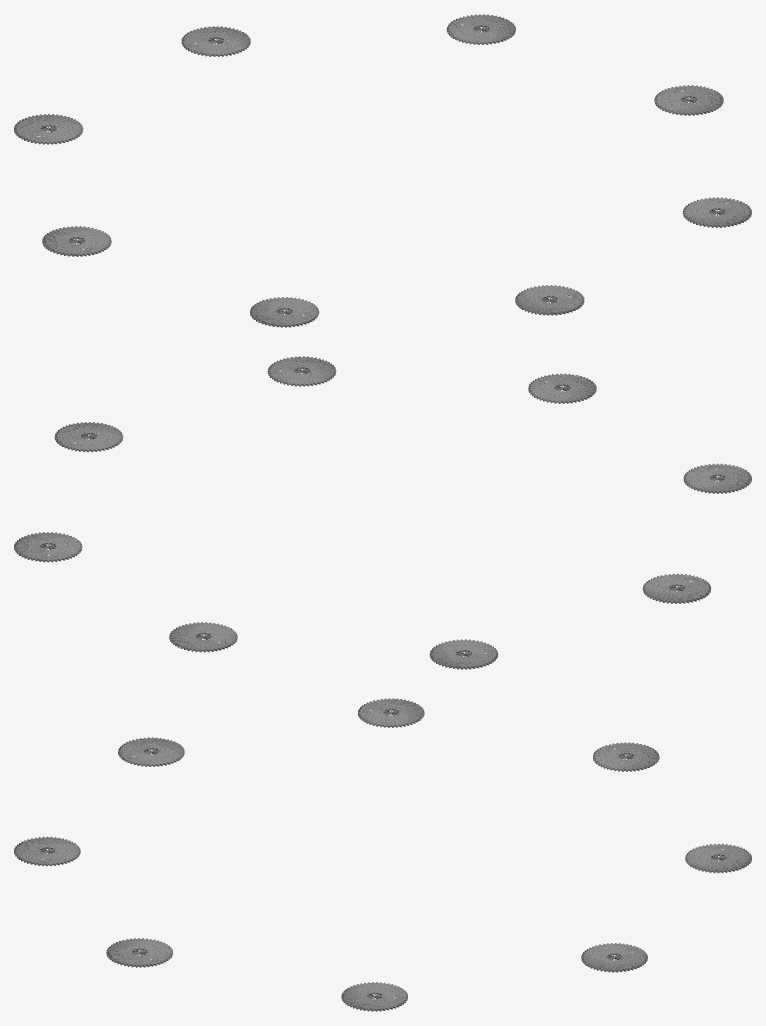
The picture shows the model from 3 angles, top to bottom: view 1: azimuth 30°, elevation 25°; view 2: azimuth 150°, elevation 25°; view 3: azimuth 270°, elevation 25°; orthographic projection. The views are drawn at different scales.
Visible parts, largest first — view 1: 11_HZ; view 2: 11_HZ; view 3: 11_HZ.
Boxes of the visible parts, x1,y1,x2,y2 form: 11_HZ: (14,14,751,327); 11_HZ: (14,356,751,669); 11_HZ: (14,698,751,1011).
Bounding box in the file's own units: 8640 × 20 × 8640.
